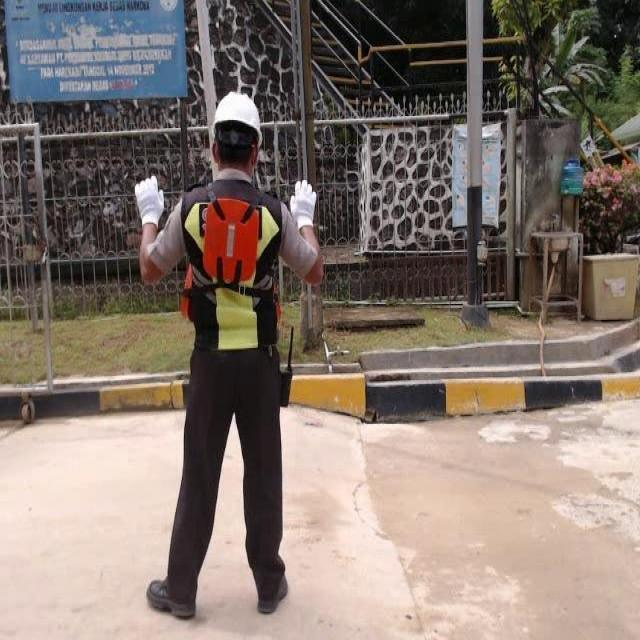vest: (203, 194, 258, 286)
